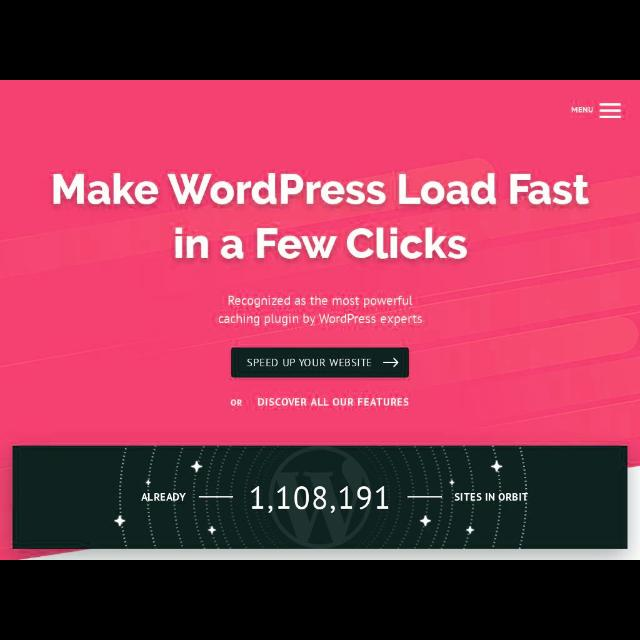icon: (600, 102, 622, 118), (382, 358, 400, 368)
image: (14, 446, 626, 548)
text: (51, 170, 590, 258), (220, 294, 422, 328), (257, 397, 408, 408), (245, 356, 372, 369), (570, 106, 594, 112), (230, 398, 242, 408)
textbutton: (232, 348, 408, 378)
